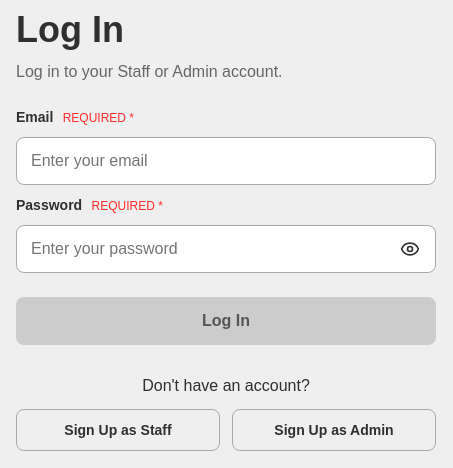
Test case: Login › enables login only after the required fields are valid
This screenshot has width=453, height=468.
Expected: the button "Log In" is disabled, [16,297,436,345]
Type "staff.test@example.com" into the field labelled "Email" at (226, 161), box [16,137,436,185]
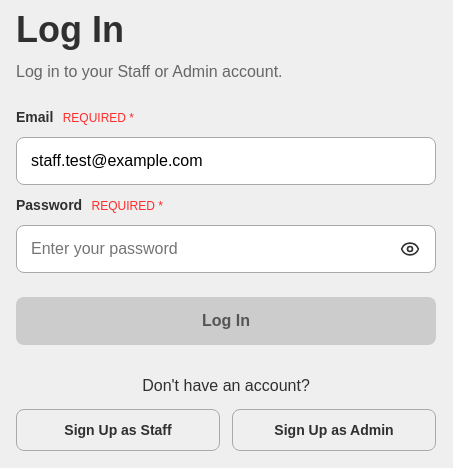
Expected: the button "Log In" is disabled, [16,297,436,345]
Type "LocalTestPass123!" into the password field labelled "Password" at (226, 249), box [16,225,436,273]
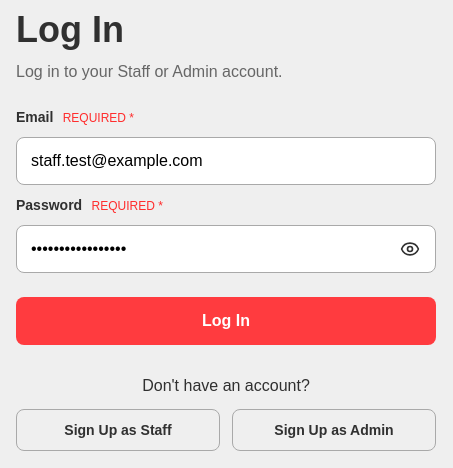
Expected: the button "Log In" is enabled, [16,297,436,345]
Clear the password field labelled "Password" at (226, 249), box [16,225,436,273]
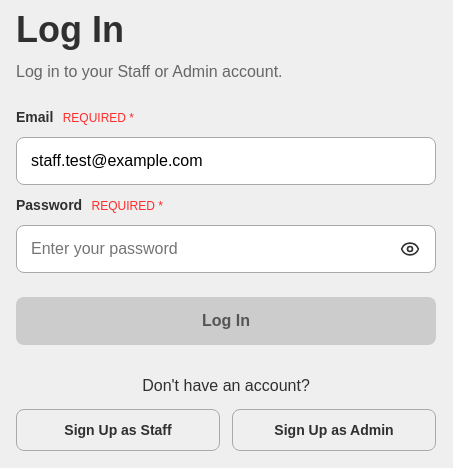
Expected: the button "Log In" is disabled, [16,297,436,345]
